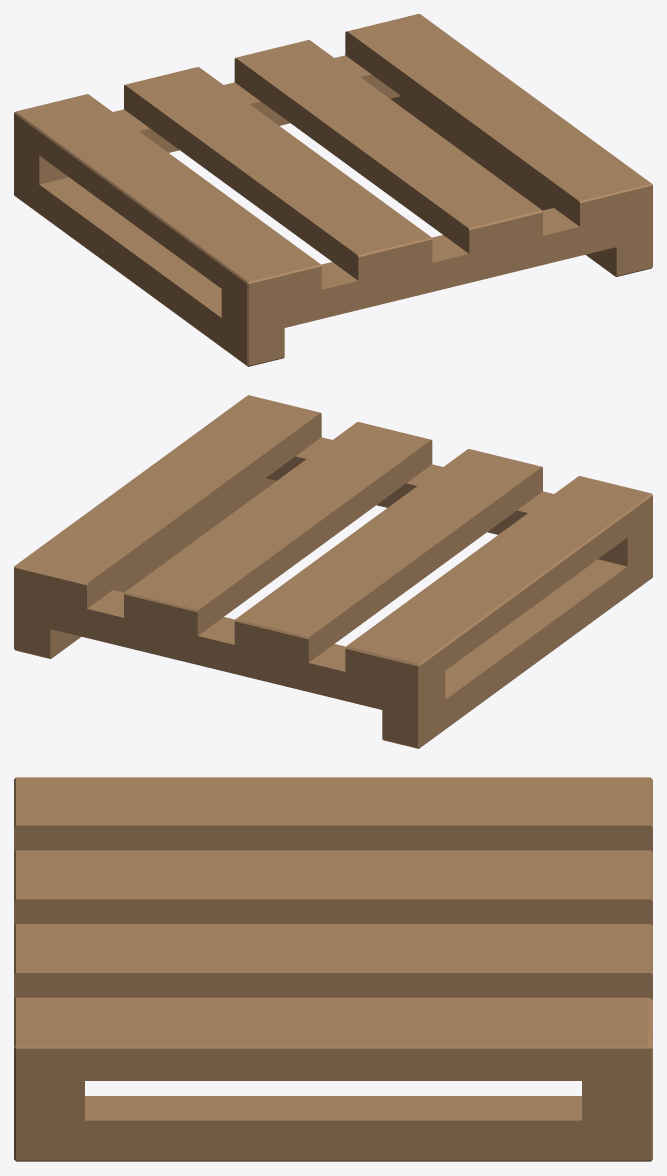
The model's file is BigPallet.fbx.
3 renders of one model, top to bottom at view 1: azimuth 30°, elevation 25°; view 2: azimuth 150°, elevation 25°; view 3: azimuth 270°, elevation 25°, orthographic. The views are drawn at different scales.
Visible parts, largest first — view 1: New Big Pallet; view 2: New Big Pallet; view 3: New Big Pallet.
Boxes of the visible parts, x1=… form: New Big Pallet: x1=14, y1=14, x2=652, y2=366; New Big Pallet: x1=14, y1=395, x2=652, y2=748; New Big Pallet: x1=14, y1=777, x2=652, y2=1161.
Size of the model in its own units: 100 by 20 by 100.
